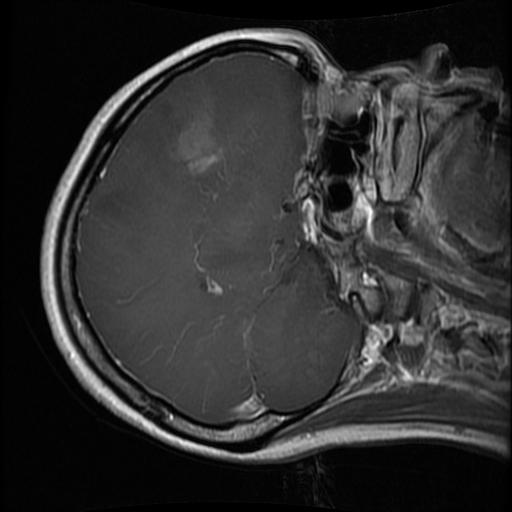glioma: (174, 93, 220, 178)
